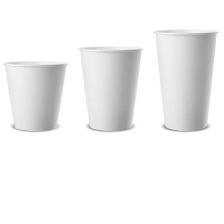paper_cup: (147, 22, 224, 137), (74, 36, 142, 135), (0, 53, 70, 140)
